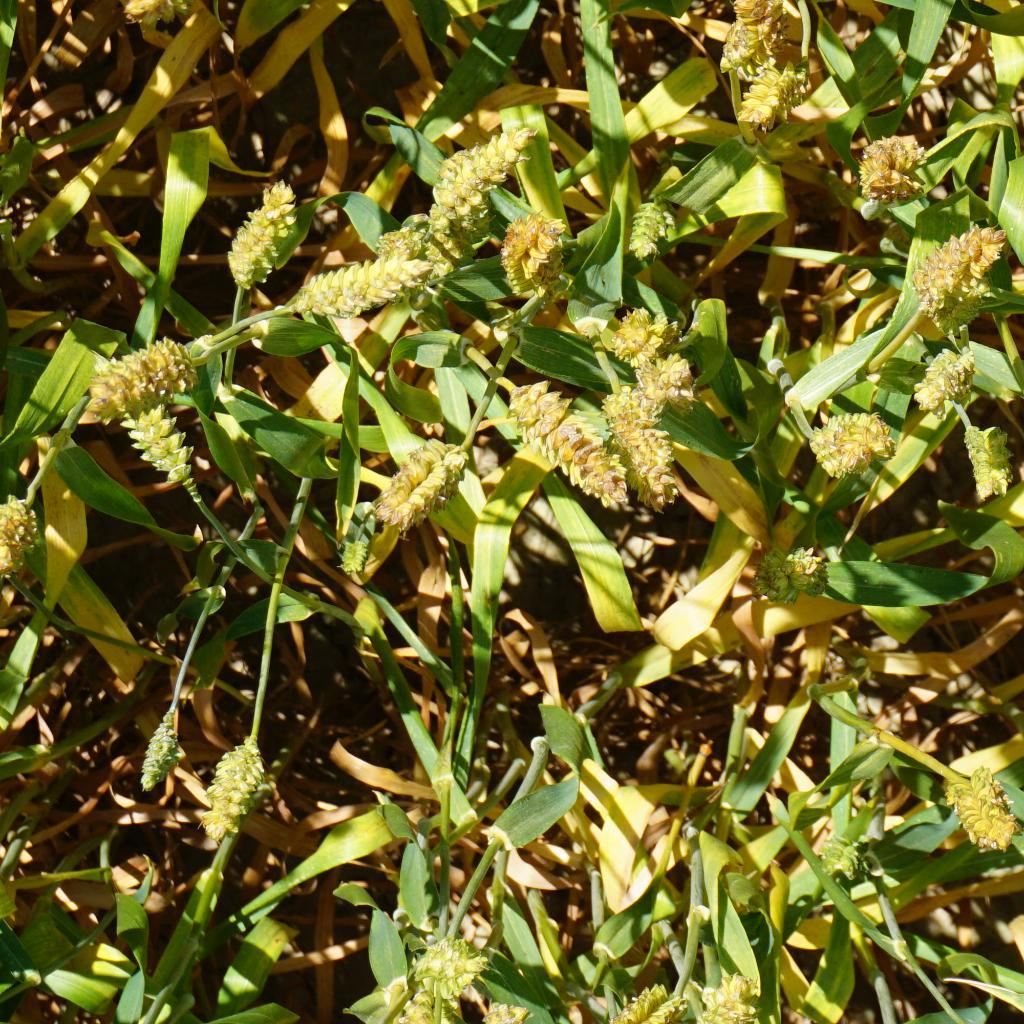0-0: (425, 118, 550, 280), (497, 380, 622, 505), (905, 217, 1017, 327), (287, 263, 448, 325), (217, 177, 305, 289), (198, 721, 269, 848), (118, 398, 208, 496), (599, 396, 678, 504), (785, 411, 900, 484), (363, 210, 458, 294), (740, 538, 843, 613), (377, 432, 456, 528), (94, 329, 201, 398), (734, 54, 822, 133), (719, 0, 807, 77), (855, 124, 936, 207), (502, 207, 566, 300), (910, 352, 989, 424), (945, 771, 1014, 849), (140, 697, 194, 792), (968, 415, 1024, 502), (606, 305, 674, 371), (418, 927, 484, 993), (0, 493, 43, 591), (627, 353, 698, 412), (629, 191, 678, 265), (377, 974, 435, 1024), (811, 832, 876, 876), (113, 0, 207, 28), (704, 977, 757, 1024), (609, 983, 667, 1024), (340, 536, 373, 576)
